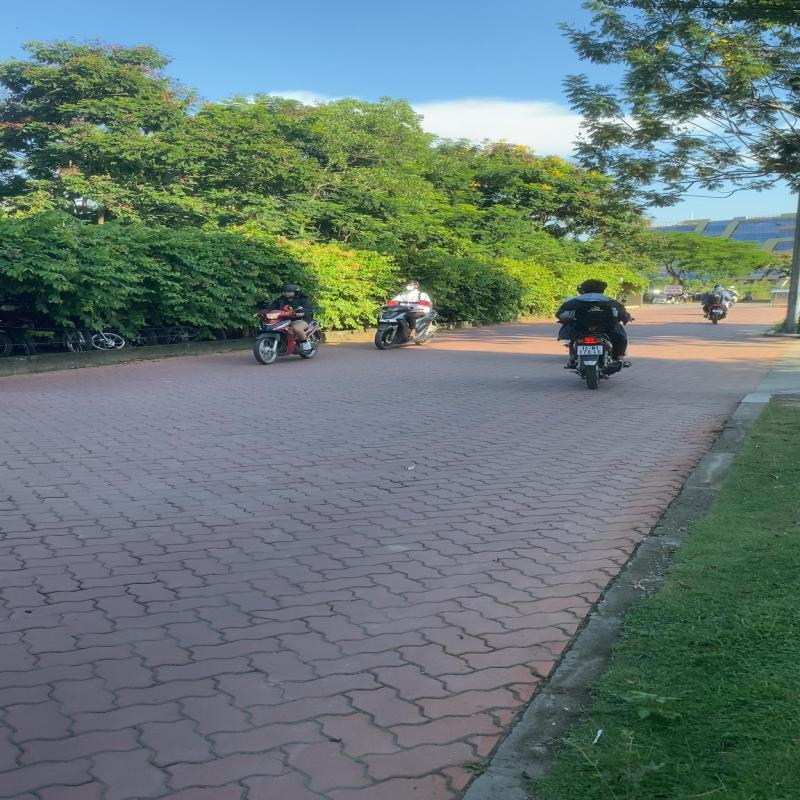licenseplate: (578, 345, 604, 355)
motorcyclist: (547, 278, 635, 388), (700, 284, 732, 325)
nohelmet: (579, 279, 610, 296)
